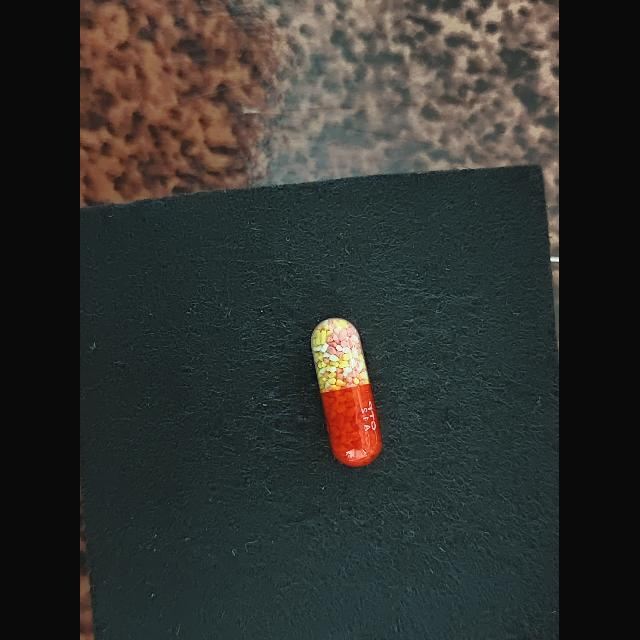Intact Capsule: (311, 318, 383, 467)
